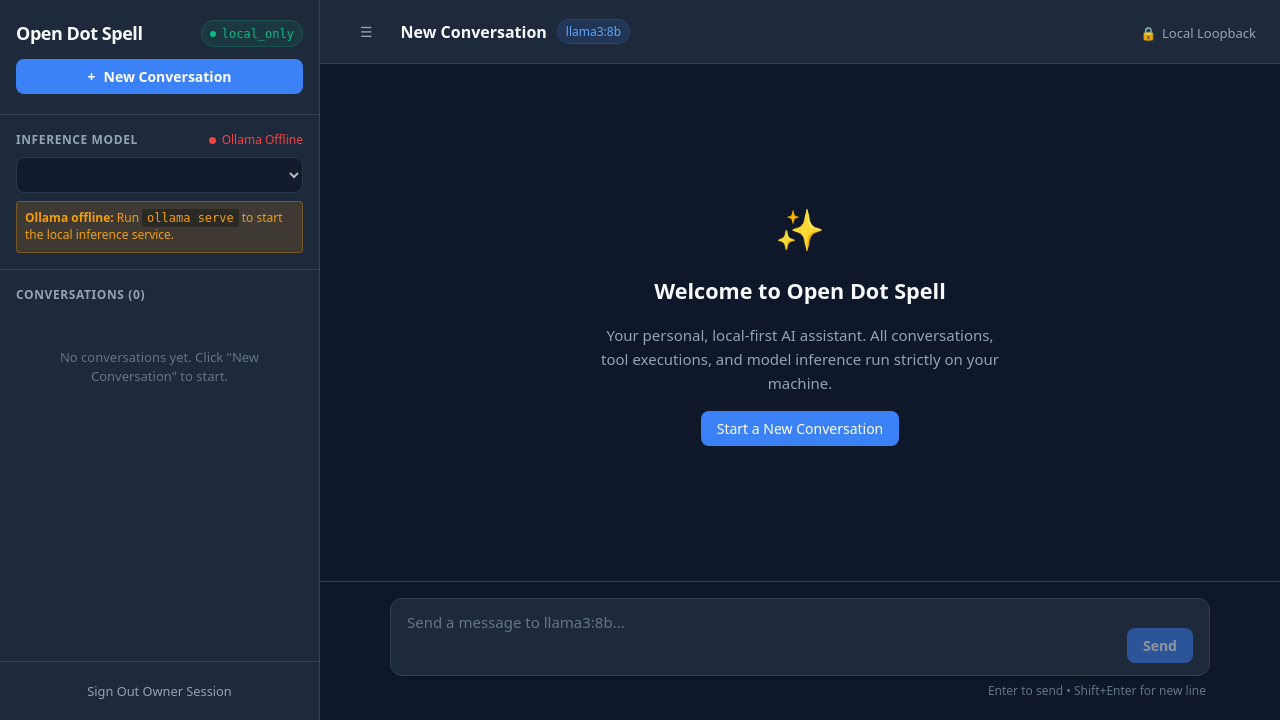
Test: Open Dot Spell Web UI (Step 10) › 15. supports owner sign-out returning to unauthenticated setup screen
What coordinates should you click on to do the following:
click the button with aria-label "Sign out of owner session"
I would click on:
 (160, 691)
Its box is [16, 674, 303, 708].
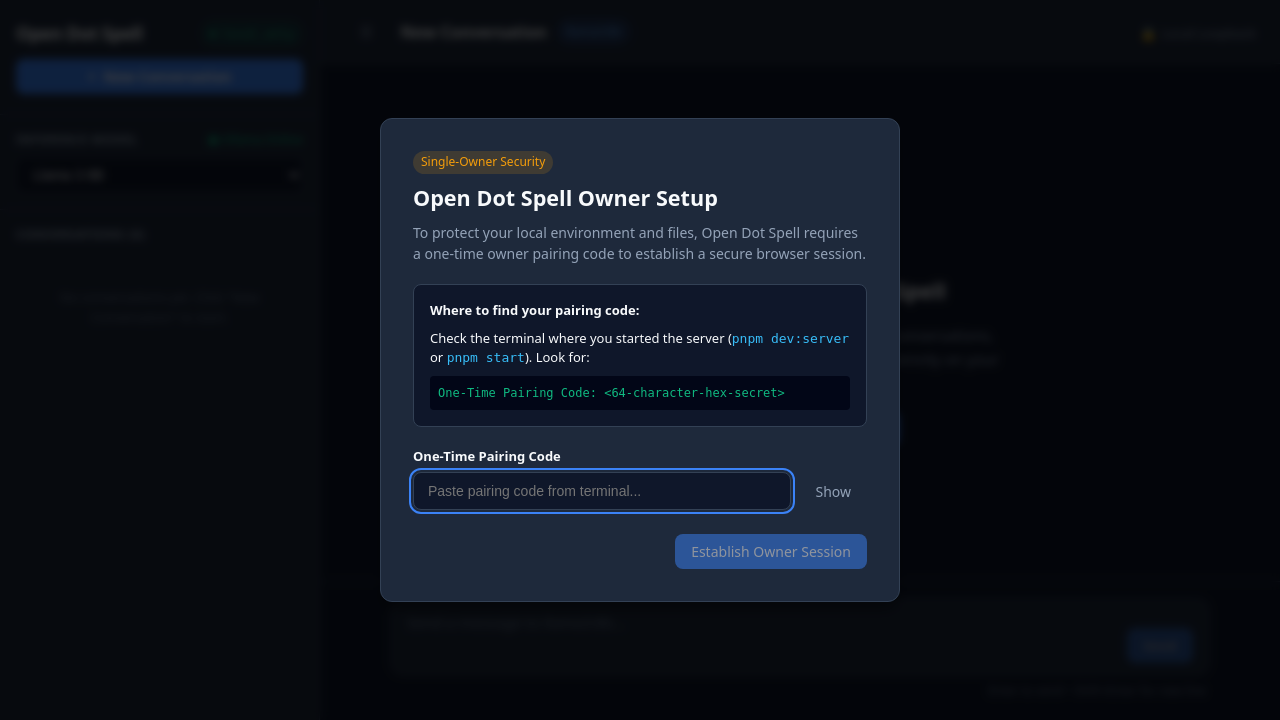
Now the heading "Open Dot Spell Owner Setup" is shown, box [413, 182, 718, 214]
